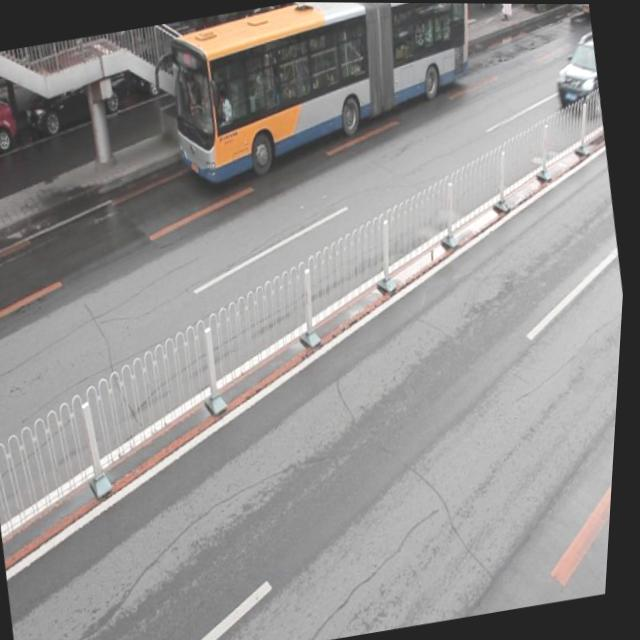car: (15, 51, 129, 135), (125, 21, 212, 103), (216, 2, 305, 76), (545, 26, 606, 118), (0, 86, 22, 170)
van: (157, 1, 488, 184), (558, 3, 590, 19)
